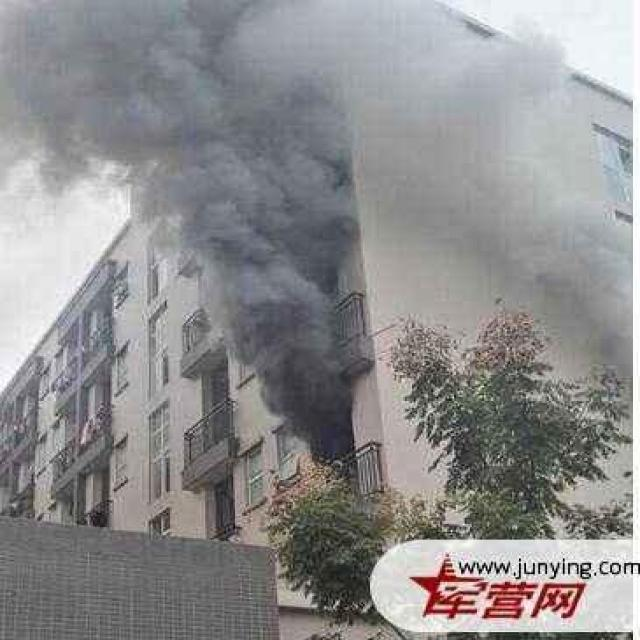Smoke: (0, 0, 631, 486)
